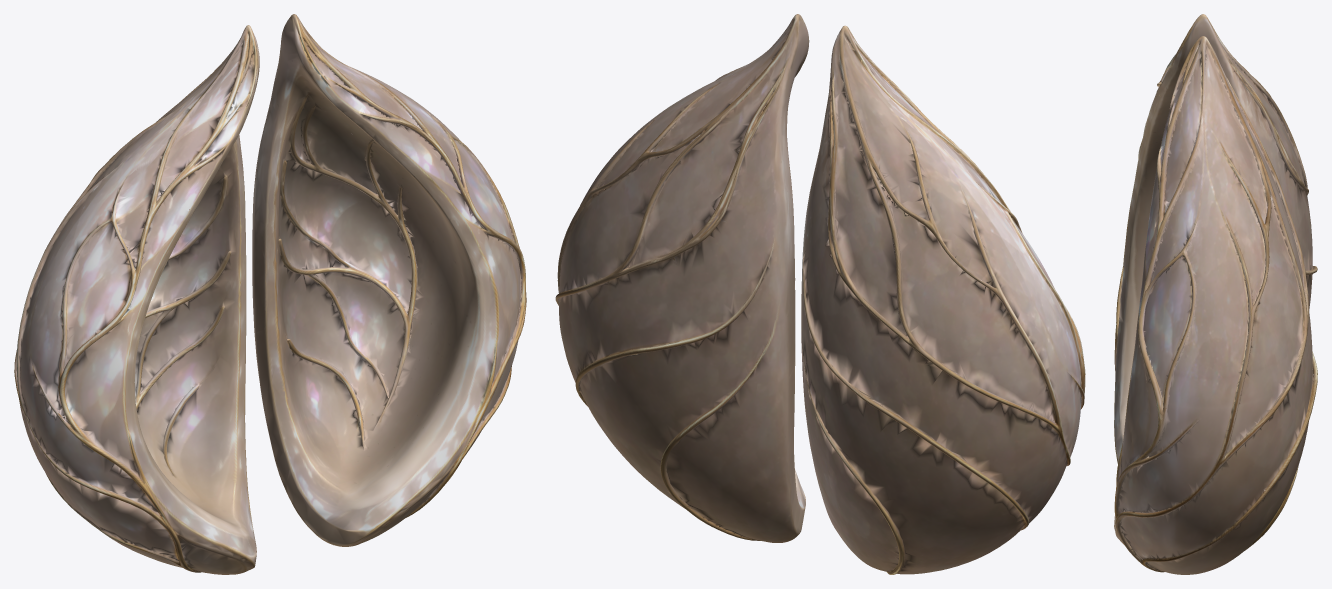
Rendered from seed-shell.glb.
3 views of the same model, side by side, from view 1: azimuth 30°, elevation 25°; view 2: azimuth 150°, elevation 25°; view 3: azimuth 270°, elevation 25° (orthographic). The views are drawn at different scales.
Parts seen in each view (by area): view 1: tripo_node_f7199710-e693-43f9-a10e-f3d9108638c5; view 2: tripo_node_f7199710-e693-43f9-a10e-f3d9108638c5; view 3: tripo_node_f7199710-e693-43f9-a10e-f3d9108638c5.
Part boxes in pixels (x1,y1,x2,y2): tripo_node_f7199710-e693-43f9-a10e-f3d9108638c5: [14, 14, 526, 574]; tripo_node_f7199710-e693-43f9-a10e-f3d9108638c5: [555, 14, 1085, 574]; tripo_node_f7199710-e693-43f9-a10e-f3d9108638c5: [1114, 14, 1317, 574].
Bounding box in the file's own units: 0.9448 × 0.9797 × 0.3525.
Materials: 1 (1 with a texture image).
